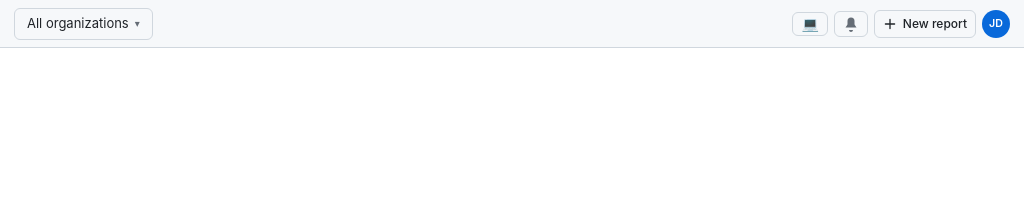
it: TopBar › opens the dropdown menu when avatar is clicked
Click the button with aria-label "User menu".
click(996, 24)  # box left=982, top=10, right=1010, bottom=38
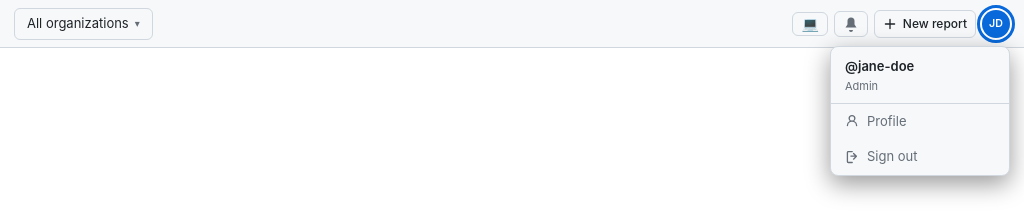
Check: the menu named "user actions" is shown, box left=830, top=46, right=1010, bottom=176
Check: the text "@jane-doe" is shown, box left=845, top=58, right=914, bottom=74
Check: the text "admin" is shown, box left=845, top=79, right=878, bottom=93
